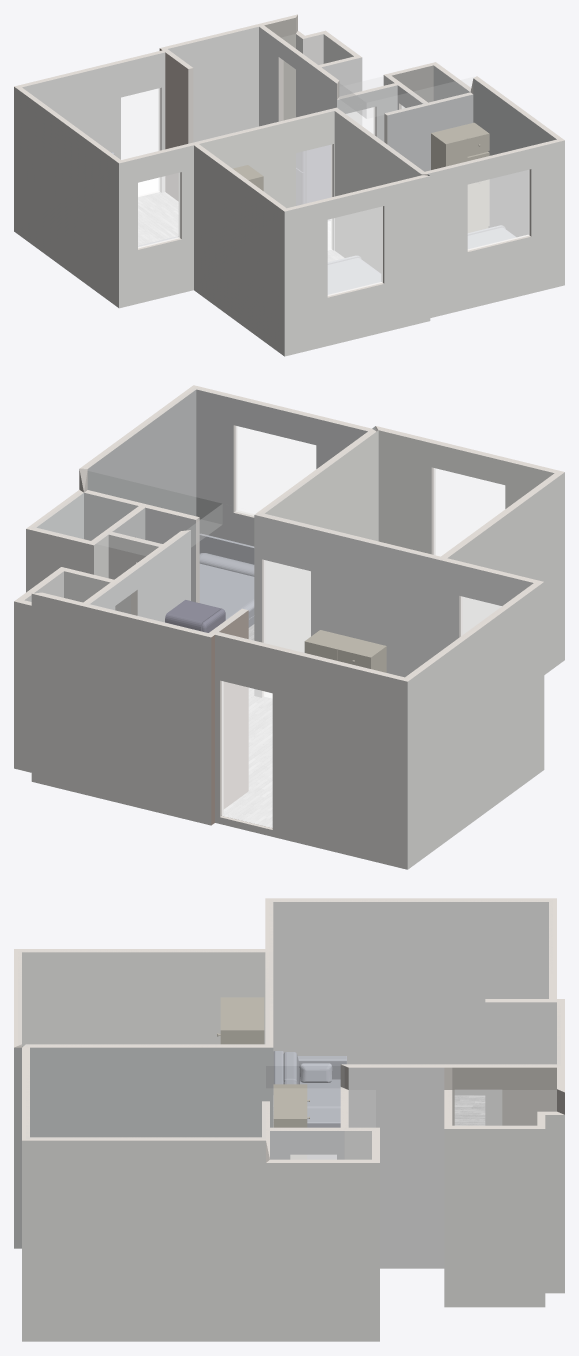
The model's file is house.glb.
3 renders of one model, top to bottom at view 1: azimuth 30°, elevation 25°; view 2: azimuth 150°, elevation 25°; view 3: azimuth 270°, elevation 25°, orthographic. The views are drawn at different scales.
Parts seen in each view (by area): view 1: wall_10, wall_9, wall_3, wall_23, ceiling_Bedroom_1, ceiling_Bedroom_2, ceiling_Other_1, wall_19, ceiling_Living_Room, wall_77, ceiling_Living_Room_2, wall_63 (+44 smaller); view 2: wall_18, wall_3, wall_25, ceiling_Bedroom_1, ceiling_Bedroom_2, wall_75, ceiling_Other_1, ceiling_Living_Room, ceiling_Living_Room_2, wall_69, wall_20, wall_45 (+43 smaller); view 3: wall_15, wall_33, ceiling_Bedroom_1, wall_21, ceiling_Bedroom_2, wall_73, wall_11, wall_7, ceiling_Other_1, wall_12, ceiling_Living_Room, ceiling_Living_Room_2 (+23 smaller).
Boxes of the visible parts, bbox=[...] form: wall_10: bbox=[284, 176, 430, 356]; wall_9: bbox=[428, 140, 564, 317]; wall_3: bbox=[14, 87, 118, 307]; wall_23: bbox=[194, 145, 284, 356]; ceiling_Bedroom_1: bbox=[200, 110, 424, 207]; ceiling_Bedroom_2: bbox=[338, 77, 555, 171]; ceiling_Other_1: bbox=[168, 27, 365, 123]; wall_19: bbox=[119, 145, 193, 308]; ceiling_Living_Room: bbox=[95, 53, 267, 142]; wall_77: bbox=[168, 27, 258, 142]; ceiling_Living_Room_2: bbox=[23, 70, 193, 159]; wall_63: bbox=[22, 52, 165, 192]; wall_18: bbox=[215, 635, 407, 869]; wall_3: bbox=[407, 582, 544, 869]; wall_25: bbox=[82, 606, 211, 825]; ceiling_Bedroom_1: bbox=[261, 429, 553, 555]; ceiling_Bedroom_2: bbox=[84, 388, 367, 511]; wall_75: bbox=[254, 515, 440, 697]; ceiling_Other_1: bbox=[86, 504, 345, 634]; ceiling_Living_Room: bbox=[215, 536, 440, 653]; ceiling_Living_Room_2: bbox=[312, 560, 532, 676]; wall_69: bbox=[265, 432, 376, 651]; wall_20: bbox=[31, 594, 82, 793]; wall_45: bbox=[196, 389, 367, 546]; wall_15: bbox=[22, 1140, 265, 1341]; wall_33: bbox=[273, 902, 548, 1095]; ceiling_Bedroom_1: bbox=[18, 952, 268, 1045]; wall_21: bbox=[30, 1047, 273, 1137]; ceiling_Bedroom_2: bbox=[26, 1048, 265, 1138]; wall_73: bbox=[22, 952, 265, 1044]; wall_11: bbox=[266, 1163, 379, 1341]; wall_7: bbox=[444, 1129, 545, 1307]; ceiling_Other_1: bbox=[266, 1001, 560, 1065]; wall_12: bbox=[348, 1067, 444, 1268]; ceiling_Living_Room: bbox=[270, 951, 548, 999]; ceiling_Living_Room_2: bbox=[270, 901, 552, 949].
Size of the model in its own units: 7.12 by 2.76 by 6.85.
80 materials, 7 textured.
